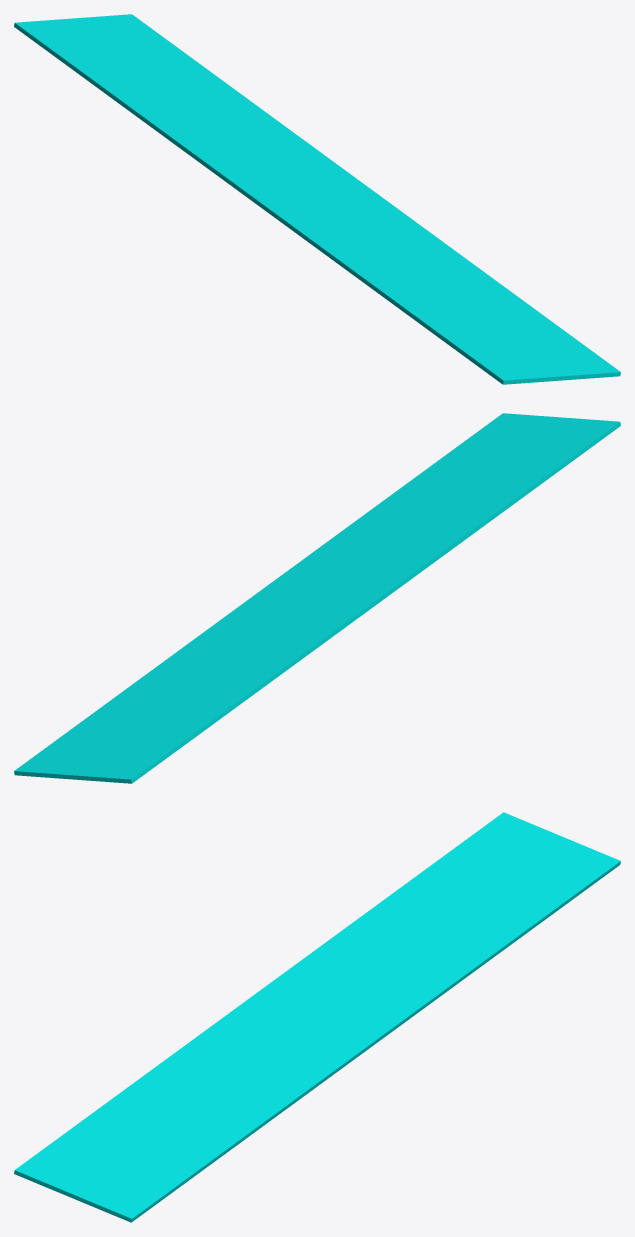
The model's file is LPintGlassFront.fbx.
The picture shows the model from 3 angles, top to bottom: view 1: azimuth 30°, elevation 25°; view 2: azimuth 150°, elevation 25°; view 3: azimuth 330°, elevation 25°; orthographic projection.
Visible parts, largest first — view 1: polySurface158; view 2: polySurface158; view 3: polySurface158.
Part boxes in pixels (box(x1,y1,x2,y2)): polySurface158: box(14, 14, 620, 384); polySurface158: box(14, 413, 620, 783); polySurface158: box(14, 812, 620, 1222).
Bounding box in the file's own units: 138 × 26.98 × 990.
